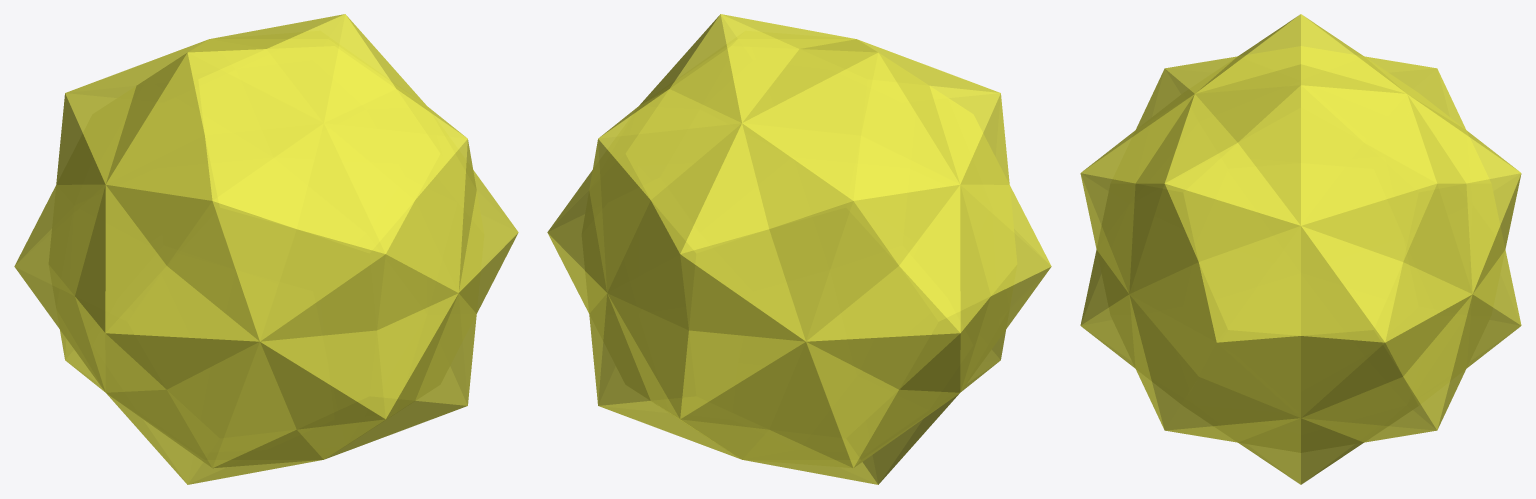
The model's file is SmallIcosacronicHexecontahedron.obj.
The picture shows the model from 3 angles, left to right: view 1: azimuth 30°, elevation 25°; view 2: azimuth 150°, elevation 25°; view 3: azimuth 270°, elevation 25°; orthographic projection. The views are drawn at different scales.
Bounding box in the file's own units: 3.62 × 3.62 × 3.62.
